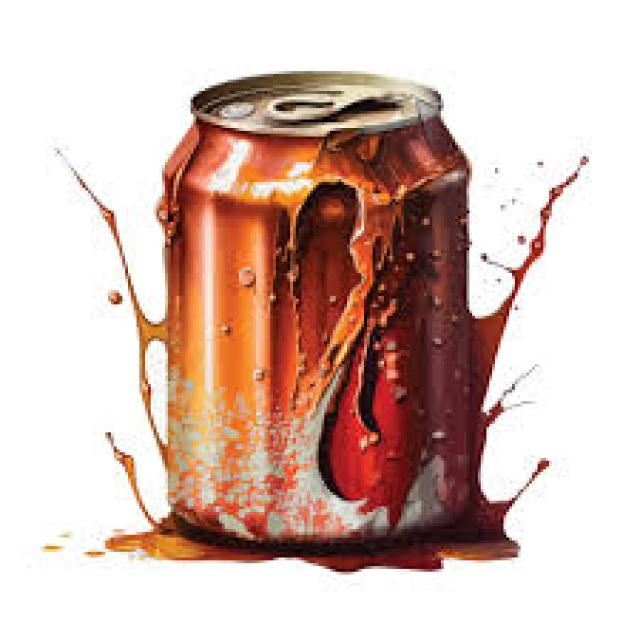Cans: (148, 60, 495, 540)
